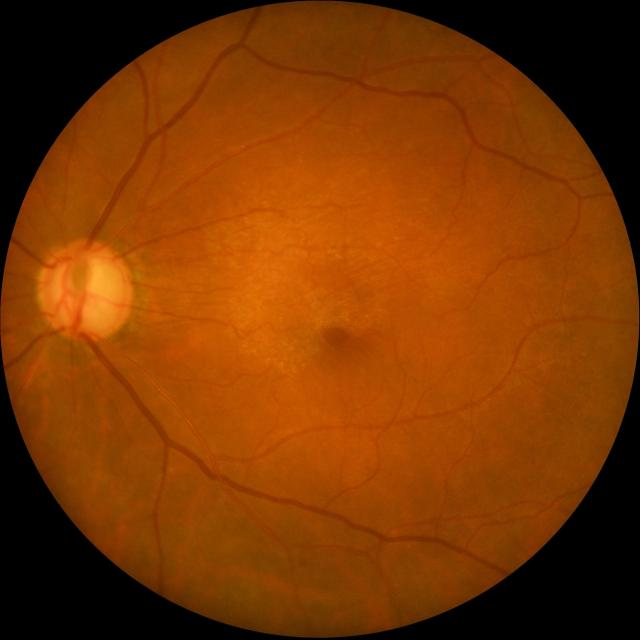OC: (53, 255, 119, 325)
OD: (37, 240, 133, 340)
